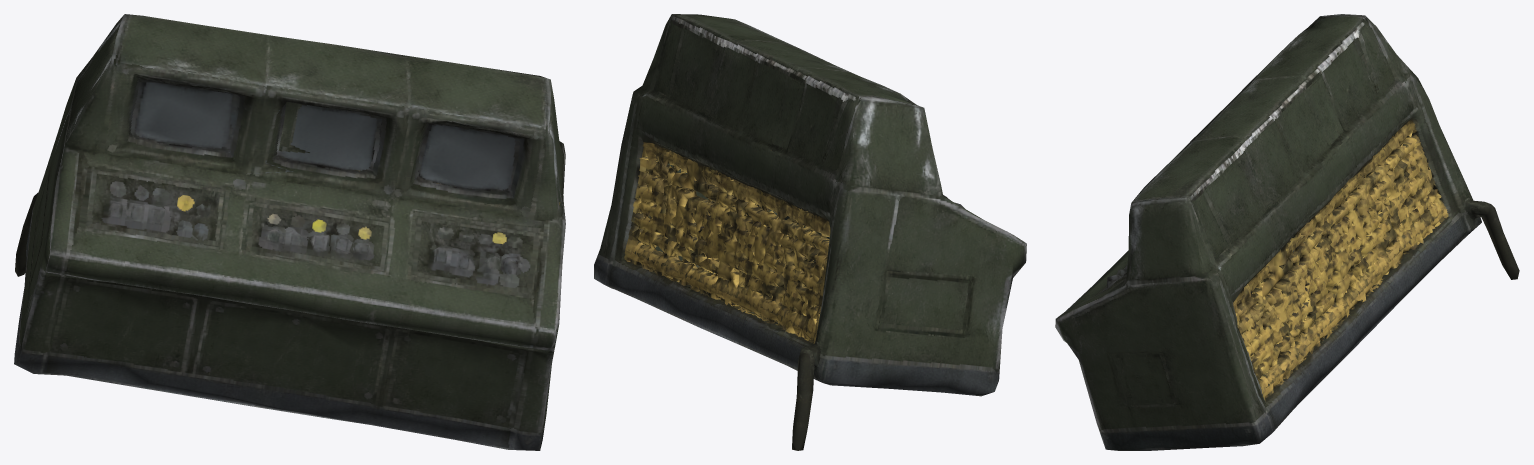
File: bunker_command_console_raw.glb
3 views of the same model, side by side, from view 1: azimuth 30°, elevation 25°; view 2: azimuth 150°, elevation 25°; view 3: azimuth 270°, elevation 25° (orthographic). The views are drawn at different scales.
Size of the model in its own units: 0.9024 by 0.6891 by 0.8818.
1 material, 1 textured.
